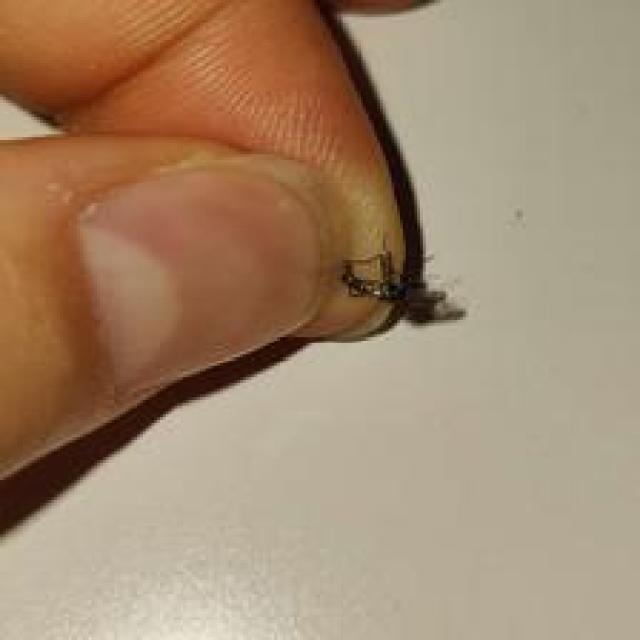Aedes albopictus: (339, 246, 464, 326)
